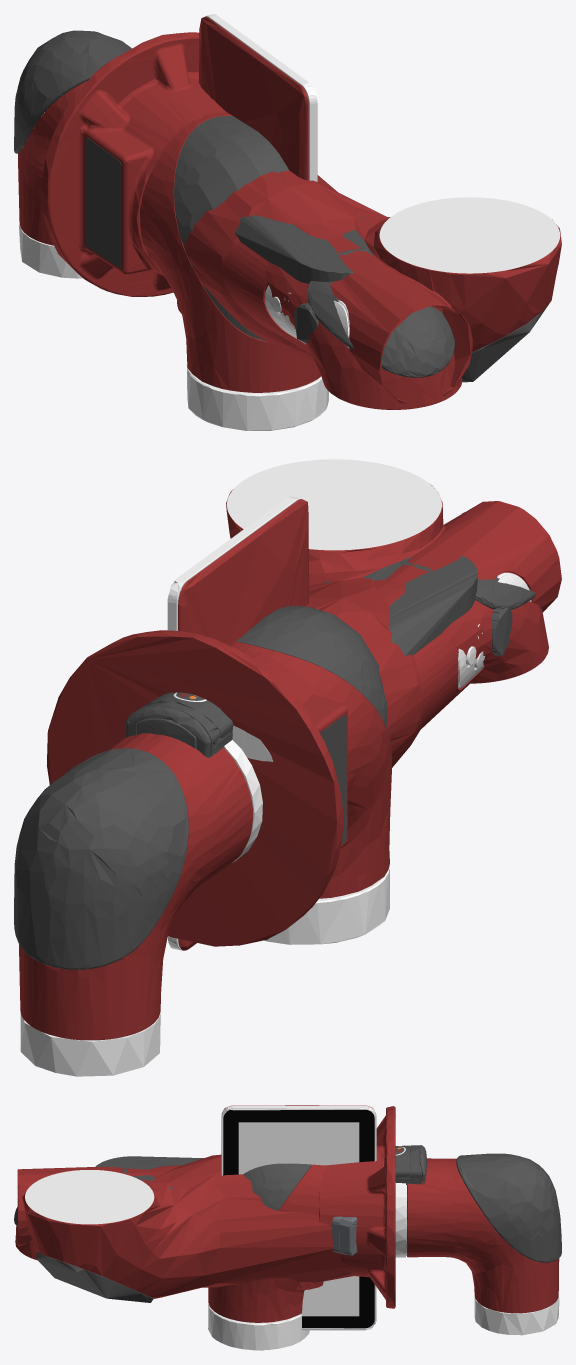
The model's file is arm.glb.
The picture shows the model from 3 angles, top to bottom: view 1: azimuth 30°, elevation 25°; view 2: azimuth 150°, elevation 25°; view 3: azimuth 270°, elevation 25°; orthographic projection. The views are drawn at different scales.
Visible parts, largest first — view 1: b2, b1, b4, b5, b6, b3, b7; view 2: b6, b1, b2, b4, b3, b5, b7, b9; view 3: b2, b6, b3, b4, b1, b9, b7, b11, b5.
Part boxes in pixels (x1,y1,x2,y2): b2: [184, 170, 561, 404]; b1: [41, 32, 225, 296]; b4: [140, 112, 328, 430]; b5: [265, 223, 462, 409]; b6: [14, 30, 131, 278]; b3: [199, 14, 317, 181]; b7: [235, 215, 373, 283]; b6: [14, 733, 262, 1076]; b1: [47, 630, 348, 946]; b2: [226, 459, 561, 767]; b4: [231, 606, 392, 944]; b3: [167, 496, 308, 950]; b5: [374, 561, 548, 683]; b7: [324, 556, 477, 655]; b9: [125, 692, 233, 757]; b2: [17, 1154, 352, 1302]; b6: [395, 1153, 561, 1335]; b3: [221, 1105, 376, 1330]; b4: [208, 1163, 325, 1350]; b1: [319, 1106, 395, 1308]; b9: [395, 1145, 427, 1184]; b7: [95, 1156, 203, 1189]; b11: [332, 1216, 357, 1255]; b5: [14, 1165, 182, 1260].
Size of the model in its own units: 0.2544 by 0.268 by 0.5727.
